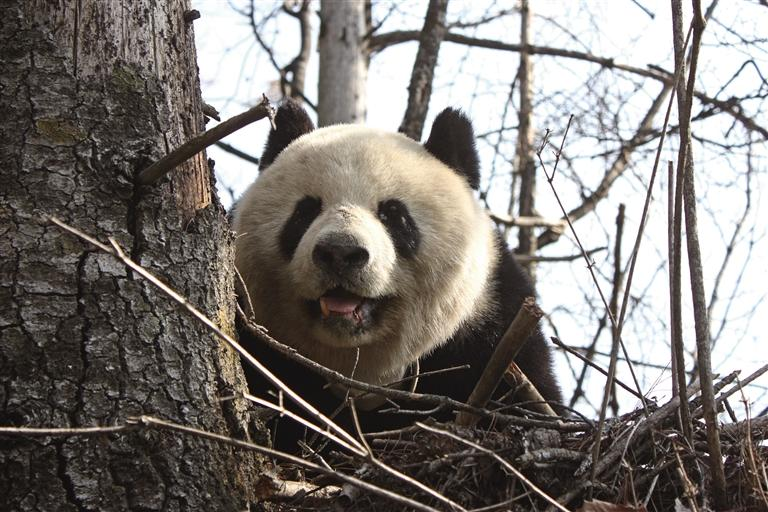panda: (195, 103, 591, 440)
